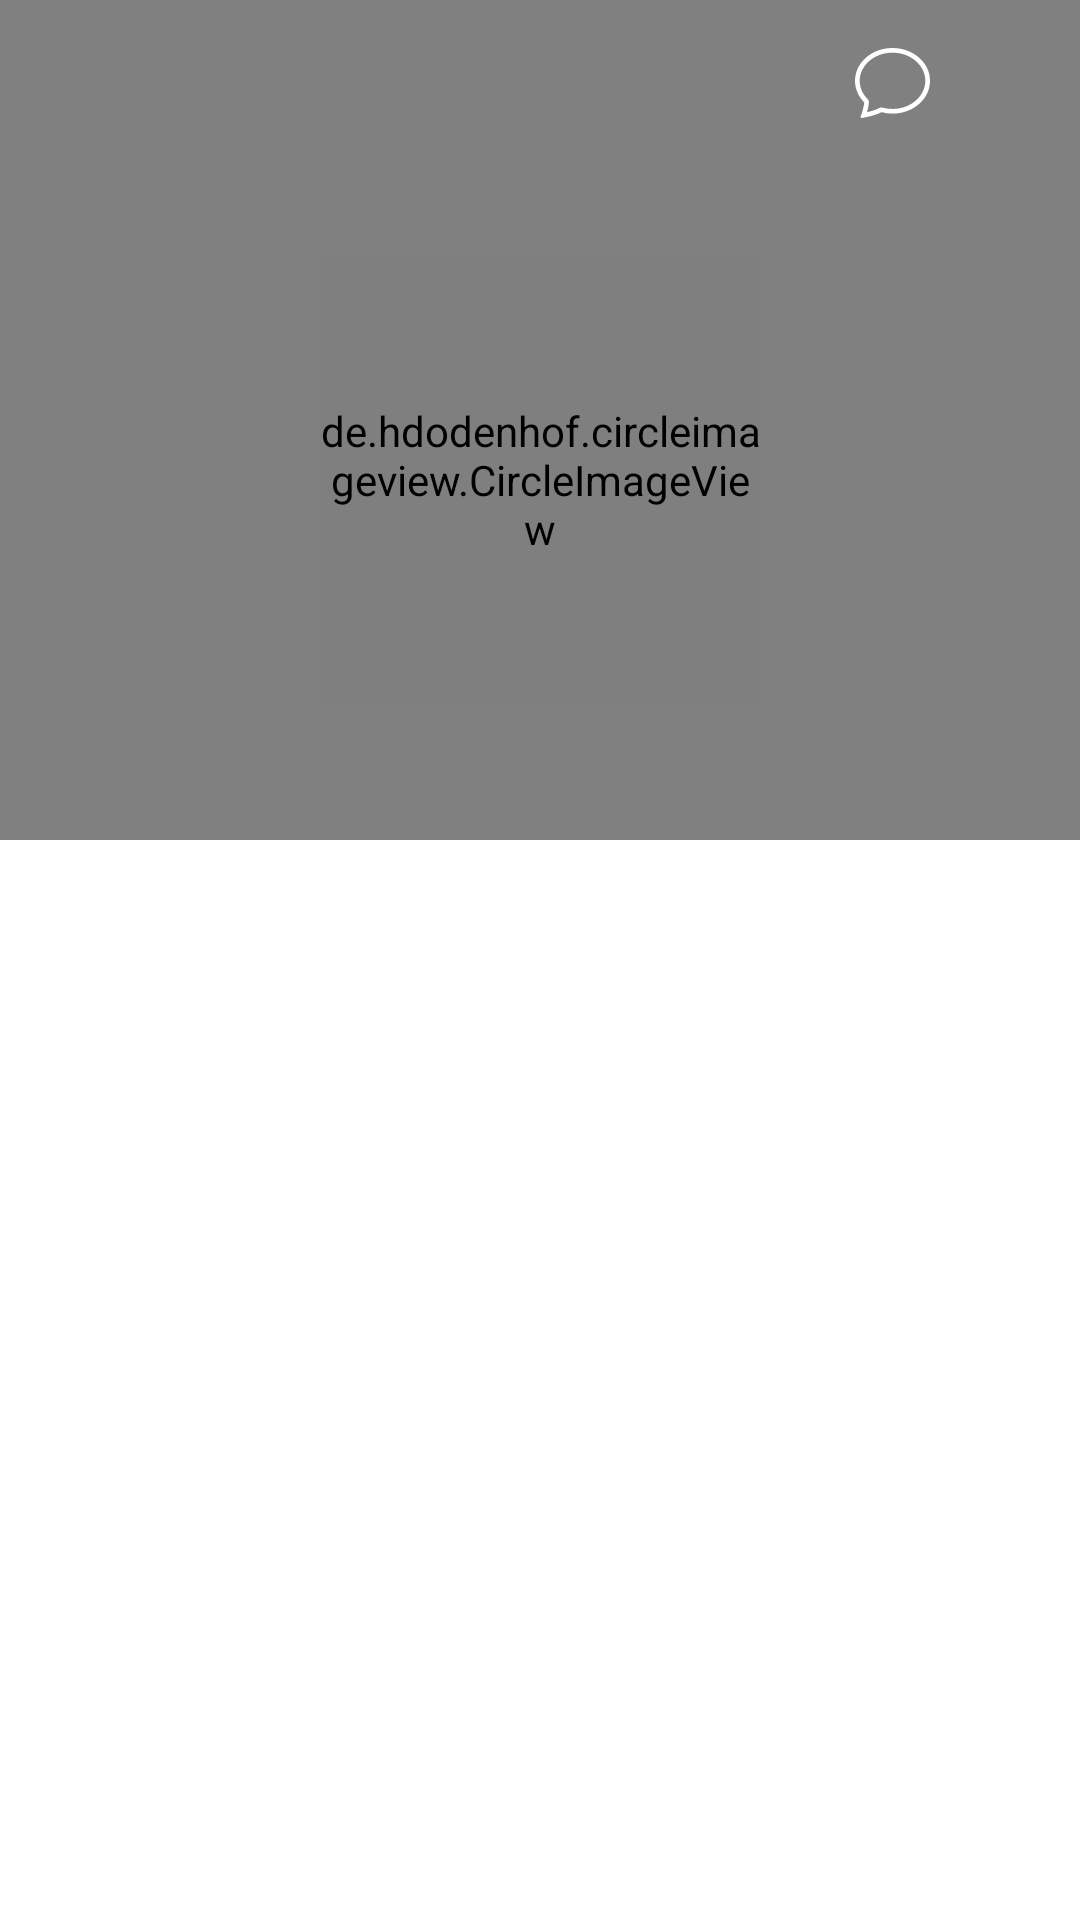

Where to tap for icons on this 1080x1920 app screen, as point (x, y):
chat: point (892, 83)
